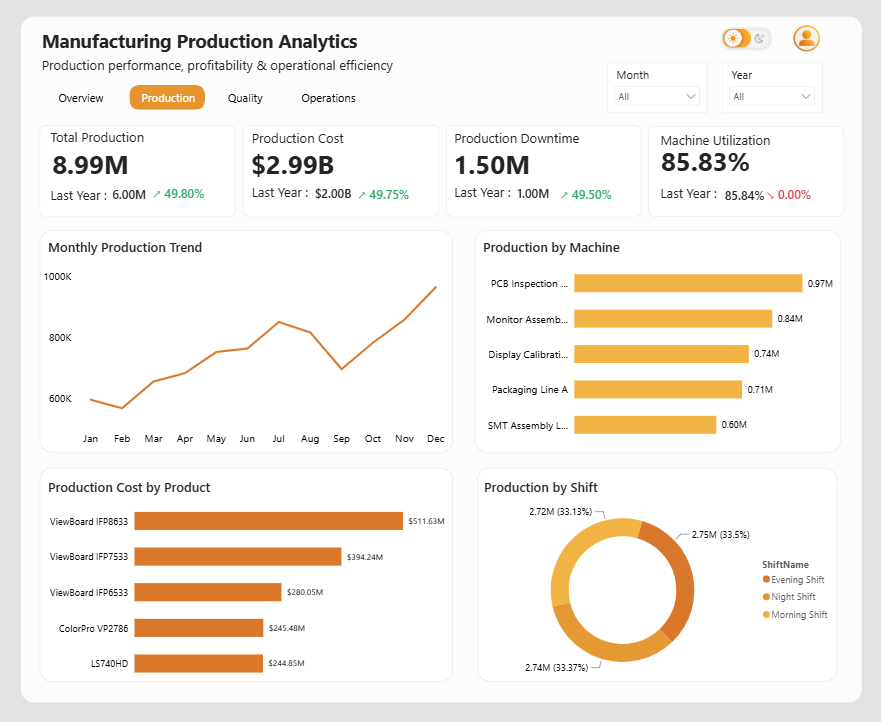

The dashboard page shown, as its layout file describes it:
{"tool":"powerbi","page":{"name":"Executive Overview-Light","canvas":[1280,1050],"ordinal":0},"visuals":[{"type":"shape","box":[0,0,1279.9,1050],"z":0},{"type":"shape","box":[34.1,29.8,1211.8,989],"z":1000},{"type":"textbox","box":[58.8,42.8,499.3,64.2],"z":2000},{"type":"textbox","box":[58.8,82,533.2,48.1],"z":3000},{"type":"shape","box":[57.1,187.2,281.8,132],"z":3000,"group":"g4"},{"type":"cardVisual","fields":{"Data":["Page1 Measures.Total Production"]},"box":[336.3,193.6,247.9,87.4],"z":3000,"group":"g8"},{"type":"shape","box":[352.7,185.5,282.1,132.3],"z":4000,"group":"g5"},{"type":"cardVisual","fields":{"Data":["Page1 Measures.Production Profit"]},"box":[629,199.9,249,83.8],"z":4000,"group":"g9"},{"type":"group","id":"g1","title":"Group 5","box":[60.6,681.2,561.7,322.8],"z":4000},{"type":"textbox","box":[950.6,190.8,238.8,41.2],"z":4500,"group":"g10"},{"type":"cardVisual","fields":{"Data":["Page1 Measures.Production Revenue"]},"box":[46.2,199.2,265.7,83.8],"z":5000,"group":"g4"},{"type":"cardVisual","fields":{"Data":["Page1 Measures.Good Units"]},"box":[926,200,214,83.8],"z":5000,"group":"g10"},{"type":"group","id":"g2","title":"Group 7","box":[592.1,338.8,625.9,321],"z":5000},{"type":"textbox","box":[950.6,268.3,123.1,37.5],"z":5500,"group":"g10"},{"type":"cardVisual","fields":{"Data":["Page1 Measures.Good Units YoY Display"]},"box":[1079,251,140.8,66.1],"z":6000,"group":"g10"},{"type":"cardVisual","fields":{"Data":["Page1 Measures.Production Revenue LY"]},"box":[131.1,254,127.4,62.1],"z":6000,"group":"g4"},{"type":"group","id":"g3","title":"Group 8","box":[58.8,338.8,504.7,321],"z":6000},{"type":"cardVisual","fields":{"Data":["Page1 Measures.Good Units LY"]},"box":[1017.9,253.6,130.6,65.6],"z":6500,"group":"g10"},{"type":"group","id":"g4","title":"Group 9","box":[46.2,187.2,301.6,132],"z":7000},{"type":"shape","box":[645.4,187.2,281.8,132],"z":7000,"group":"g6"},{"type":"group","id":"g5","title":"Group 10","box":[336.3,185.5,303.5,133.7],"z":8000},{"type":"shape","box":[938,189,281.8,130.2],"z":8000,"group":"g7"},{"type":"group","id":"g6","title":"Group 11","box":[629,187.2,299.6,137.2],"z":9000},{"type":"cardVisual","fields":{"Data":["Page1 Measures.Production Revenue YoY Display"]},"box":[200,256,147.8,58.2],"z":9000,"group":"g4"},{"type":"textbox","box":[69.9,189,217.4,42.7],"z":10000,"group":"g4"},{"type":"group","id":"g7","title":"Group 12","box":[926,189,293.8,130.2],"z":10000},{"type":"cardVisual","fields":{"Data":["Page1 Measures.Total Production LY"]},"box":[428.7,250.6,136,68.7],"z":10000,"group":"g8"},{"type":"shape","box":[76.7,130.2,101,35.5],"z":11000},{"type":"cardVisual","fields":{"Data":["Page1 Measures.Production Profit LY"]},"box":[718.9,252.4,143.2,65.7],"z":11000,"group":"g9"},{"type":"textbox","box":[71.4,269.5,124,38.8],"z":11000,"group":"g4"},{"type":"shape","title":"Executive ","box":[62.4,123,128.4,48.1],"z":12000},{"type":"group","id":"g8","title":"Group 1","box":[336.3,185.5,303.5,133.7],"z":12000,"group":"g5"},{"type":"shape","title":"Executive ","box":[183.7,123,128.4,48.1],"z":13000},{"type":"cardVisual","fields":{"Data":["Page1 Measures.Total Production YoY Display"]},"box":[494,249,145.9,69.8],"z":13000,"group":"g8"},{"type":"shape","title":"Executive ","box":[287.1,123,128.4,48.1],"z":14000},{"type":"group","id":"g9","title":"Group 3","box":[629,189,299.6,135.4],"z":14000,"group":"g6"},{"type":"cardVisual","fields":{"Data":["Page1 Measures.Production Profit YoY Display"]},"box":[787.7,242.4,140.9,82],"z":14000,"group":"g9"},{"type":"slicer","fields":{"Values":["Dim_Date.Year"]},"box":[1045,98.1,144.4,73.1],"z":15000},{"type":"shape","box":[60.6,338.8,502.9,321],"z":15000,"group":"g3"},{"type":"slicer","fields":{"Values":["Dim_Date.MonthShort"]},"box":[879.2,98.1,144.4,73.1],"z":16000},{"type":"donutChart","fields":{"Category":["Dim_Product.Category"],"Y":["Page1 Measures.Total Production"]},"box":[58.8,373.1,495.8,286.7],"z":16000,"group":"g3"},{"type":"shape","box":[592.1,338.8,624.2,321],"z":17000,"group":"g2"},{"type":"shape","box":[656.3,681.2,554.6,309.4],"z":17000},{"type":"textbox","box":[364.4,185.5,228.3,43.5],"z":18000,"group":"g8"},{"type":"lineChart","fields":{"Category":["Dim_Date.MonthShort"],"Y":["Sum(Fact_Production.ProductionCost)"],"Y2":["Sum(Fact_Production.GrossRevenue)"]},"box":[604.6,389.3,613.5,270.5],"z":18000,"group":"g2"},{"type":"barChart","fields":{"Category":["Dim_Product.ProductName"],"Y":["3 Quality Measures.Defect Units"]},"box":[656.3,715.1,554.6,288.9],"z":18000},{"type":"shape","box":[60.6,681.2,561.7,309.4],"z":19000,"group":"g1"},{"type":"textbox","box":[656.3,691.3,338.8,41.8],"z":19000},{"type":"shape","title":"Executive ","box":[420,123,108.8,48.1],"z":20000},{"type":"textbox","box":[364.5,267.5,117.7,39.6],"z":20000,"group":"g8"},{"type":"barChart","fields":{"Category":["Dim_Product.ProductName"],"Y":["Page1 Measures.Production Profit"]},"box":[60.6,711.3,561.7,292.7],"z":20000,"group":"g1"},{"type":"image","box":[990,18,178,90],"z":21000},{"type":"image","box":[1100,20,133,86],"z":22000},{"type":"actionButton","box":[1078.9,42.8,39.2,39.2],"z":23000},{"type":"textbox","box":[67.7,346,276.4,45.1],"z":23000,"group":"g3"},{"type":"textbox","box":[601,346,338.8,45.1],"z":24000,"group":"g2"},{"type":"textbox","box":[67.7,691.2,338.8,41.8],"z":25000,"group":"g1"},{"type":"textbox","box":[653.3,189,236.5,41.7],"z":27000,"group":"g9"},{"type":"group","id":"g10","title":"Group 2","box":[926,190.8,293.8,128.4],"z":27500,"group":"g7"},{"type":"textbox","box":[652.6,267.3,122,37.9],"z":28000,"group":"g9"}]}

Visuals, with their boxes in screenshot pixels (x1, y1, x2, y2), scaled from the page's 1280x1050 canvas onto the 881x722 screenshot:
shape: Rect(0, 0, 880, 721)
shape: Rect(23, 20, 858, 701)
textbox: Rect(40, 29, 384, 74)
textbox: Rect(40, 56, 407, 89)
shape: Rect(39, 129, 233, 219)
cardVisual - Page1 Measures.Total Production: Rect(231, 133, 402, 193)
shape: Rect(243, 128, 437, 219)
cardVisual - Page1 Measures.Production Profit: Rect(433, 137, 604, 195)
"Group 5" group: Rect(42, 468, 428, 690)
textbox: Rect(654, 131, 819, 160)
cardVisual - Page1 Measures.Production Revenue: Rect(32, 137, 215, 195)
cardVisual - Page1 Measures.Good Units: Rect(637, 138, 785, 195)
"Group 7" group: Rect(408, 233, 838, 454)
textbox: Rect(654, 184, 739, 210)
cardVisual - Page1 Measures.Good Units YoY Display: Rect(743, 173, 840, 218)
cardVisual - Page1 Measures.Production Revenue LY: Rect(90, 175, 178, 217)
"Group 8" group: Rect(40, 233, 388, 454)
cardVisual - Page1 Measures.Good Units LY: Rect(701, 174, 790, 219)
"Group 9" group: Rect(32, 129, 239, 219)
shape: Rect(444, 129, 638, 219)
"Group 10" group: Rect(231, 128, 440, 219)
shape: Rect(646, 130, 840, 219)
"Group 11" group: Rect(433, 129, 639, 223)
cardVisual - Page1 Measures.Production Revenue YoY Display: Rect(138, 176, 239, 216)
textbox: Rect(48, 130, 198, 159)
"Group 12" group: Rect(637, 130, 840, 219)
cardVisual - Page1 Measures.Total Production LY: Rect(295, 172, 389, 220)
shape: Rect(53, 90, 122, 114)
cardVisual - Page1 Measures.Production Profit LY: Rect(495, 174, 593, 219)
textbox: Rect(49, 185, 134, 212)
"Executive " shape: Rect(43, 85, 131, 118)
"Group 1" group: Rect(231, 128, 440, 219)
"Executive " shape: Rect(126, 85, 215, 118)
cardVisual - Page1 Measures.Total Production YoY Display: Rect(340, 171, 440, 219)
"Executive " shape: Rect(198, 85, 286, 118)
"Group 3" group: Rect(433, 130, 639, 223)
cardVisual - Page1 Measures.Production Profit YoY Display: Rect(542, 167, 639, 223)
slicer - Dim_Date.Year: Rect(719, 67, 819, 118)
shape: Rect(42, 233, 388, 454)
slicer - Dim_Date.MonthShort: Rect(605, 67, 705, 118)
donutChart - Dim_Product.Category x Page1 Measures.Total Production: Rect(40, 257, 382, 454)
shape: Rect(408, 233, 837, 454)
shape: Rect(452, 468, 833, 681)
textbox: Rect(251, 128, 408, 157)
lineChart - Dim_Date.MonthShort x Sum(Fact_Production.ProductionCost): Rect(416, 268, 838, 454)
barChart - Dim_Product.ProductName x 3 Quality Measures.Defect Units: Rect(452, 492, 833, 690)
shape: Rect(42, 468, 428, 681)
textbox: Rect(452, 475, 685, 504)
"Executive " shape: Rect(289, 85, 364, 118)
textbox: Rect(251, 184, 332, 211)
barChart - Dim_Product.ProductName x Page1 Measures.Production Profit: Rect(42, 489, 428, 690)
image: Rect(681, 12, 804, 74)
image: Rect(757, 14, 849, 73)
actionButton: Rect(743, 29, 770, 56)
textbox: Rect(47, 238, 237, 269)
textbox: Rect(414, 238, 647, 269)
textbox: Rect(47, 475, 280, 504)
textbox: Rect(450, 130, 612, 159)
"Group 2" group: Rect(637, 131, 840, 219)
textbox: Rect(449, 184, 533, 210)
